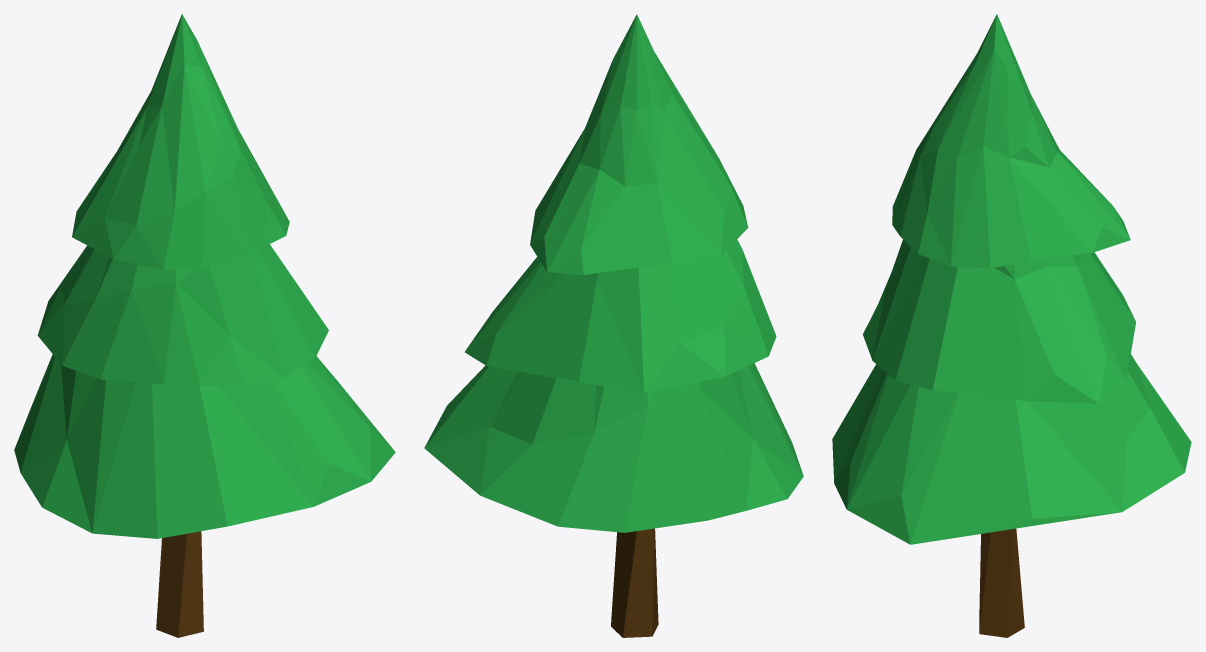
Rendered from tree.glb.
The picture shows the model from 3 angles, left to right: view 1: azimuth 30°, elevation 25°; view 2: azimuth 150°, elevation 25°; view 3: azimuth 270°, elevation 25°; orthographic projection.
Parts seen in each view (by area): view 1: Circle.003; view 2: Circle.003; view 3: Circle.003.
Boxes of the visible parts, bbox=[...] form: Circle.003: bbox=[14, 14, 395, 637]; Circle.003: bbox=[424, 14, 803, 637]; Circle.003: bbox=[832, 14, 1191, 637].
Bounding box in the file's own units: 1.11 × 2.05 × 1.09.
